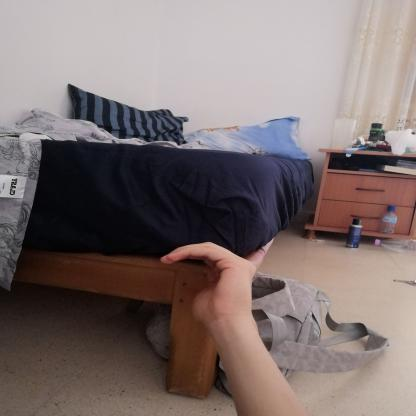HAA: (149, 233, 269, 335)
